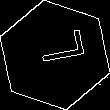L_W: (26, 35, 84, 75)
